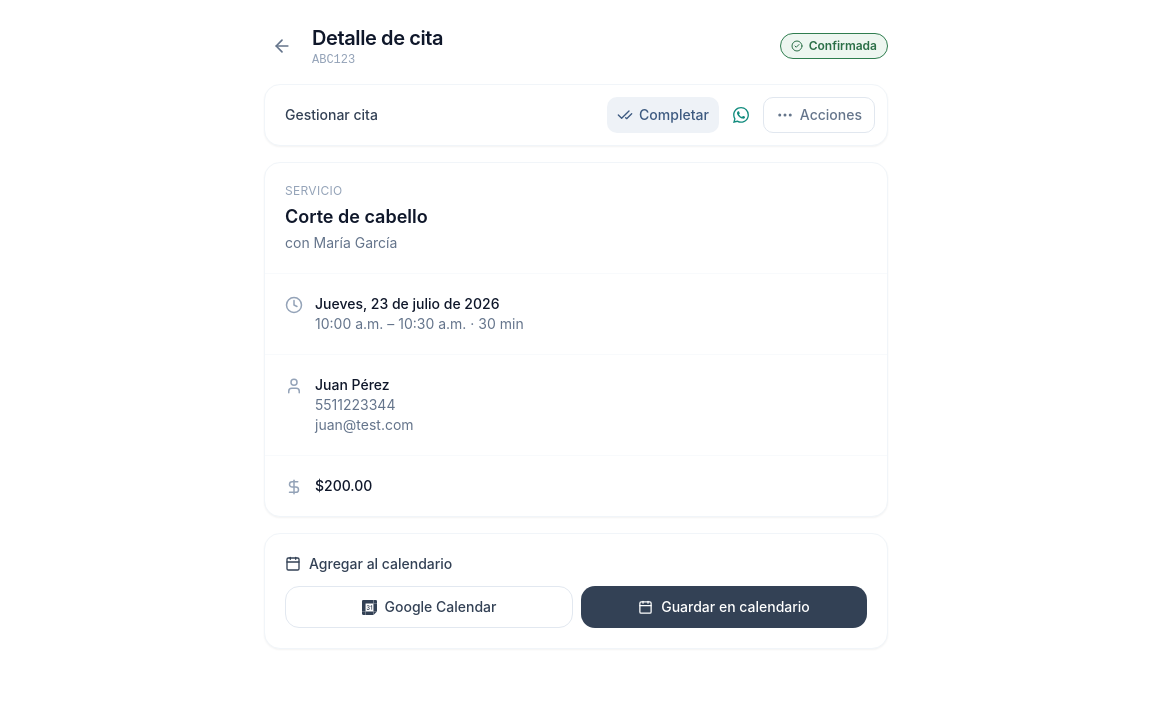
Test: CitaDetallePage — acciones › ya no es un callejón sin salida: ofrece las acciones de la cita, incluido reagendar
This screenshot has width=1152, height=720.
Expected: the button with aria-label "Completar cita de Juan Pérez" is shown, [607,97,719,133]
Click the button with aria-label "Acciones de la cita de Juan Pérez" at point(819, 115), box [763,97,875,133]
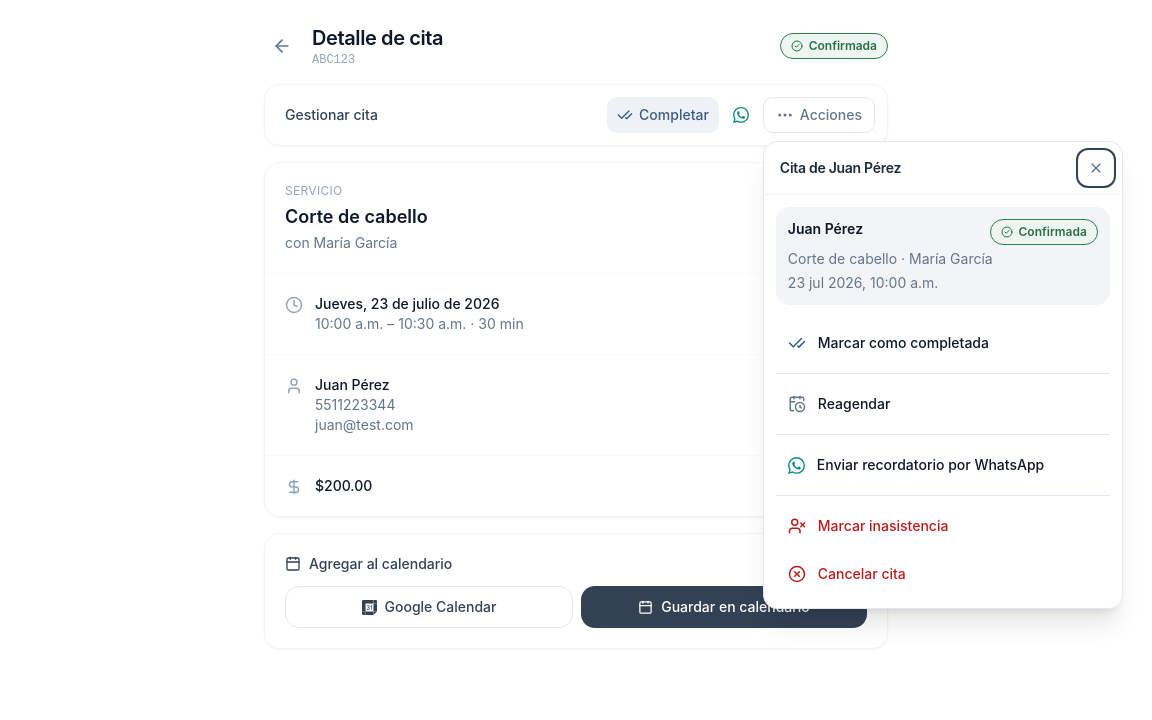
Now the button "Reagendar" is shown, box [776,382,1110,426]
